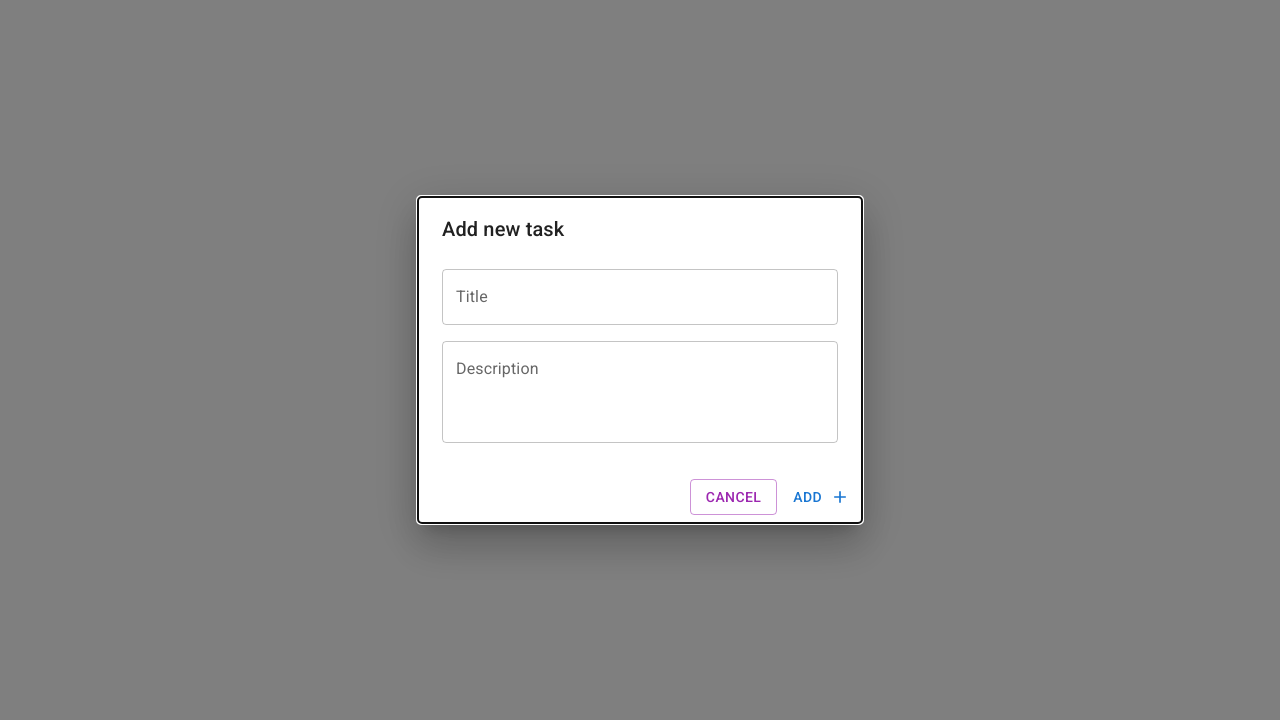
Test: AddTaskModal › displays error messages if validation fails
Click the button "Add". click: (820, 497)
box: [785,479,854,515]
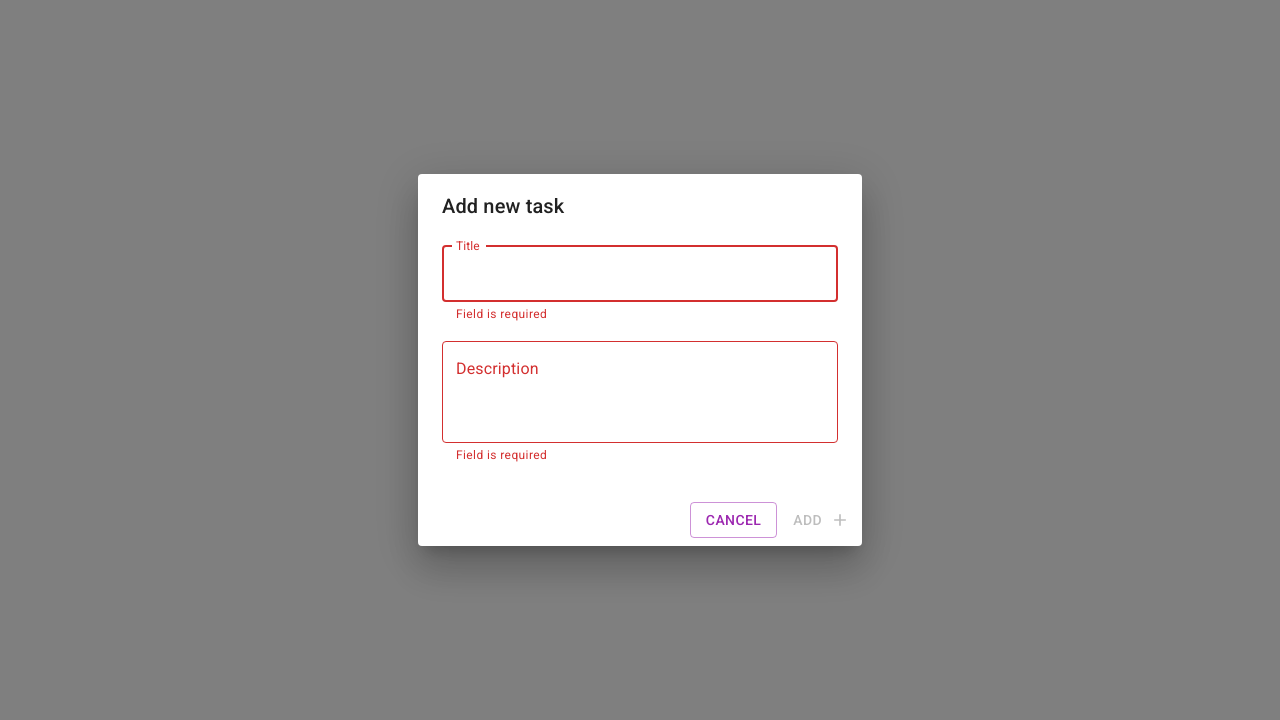
Expected: the text "Field is required" is shown 2 times, [456,307,547,321]; [456,448,547,462]
